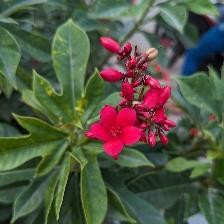jatropha: (91, 105, 144, 158)
